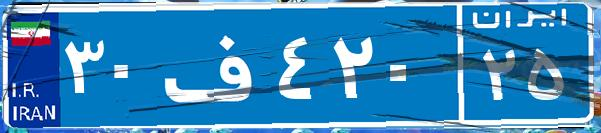0: (385, 28, 445, 110), (110, 28, 158, 105)
2: (330, 28, 385, 110), (475, 38, 525, 113)
3: (57, 26, 110, 107)
4: (273, 28, 330, 110)
5: (525, 38, 570, 115)
ف: (158, 15, 273, 115)
